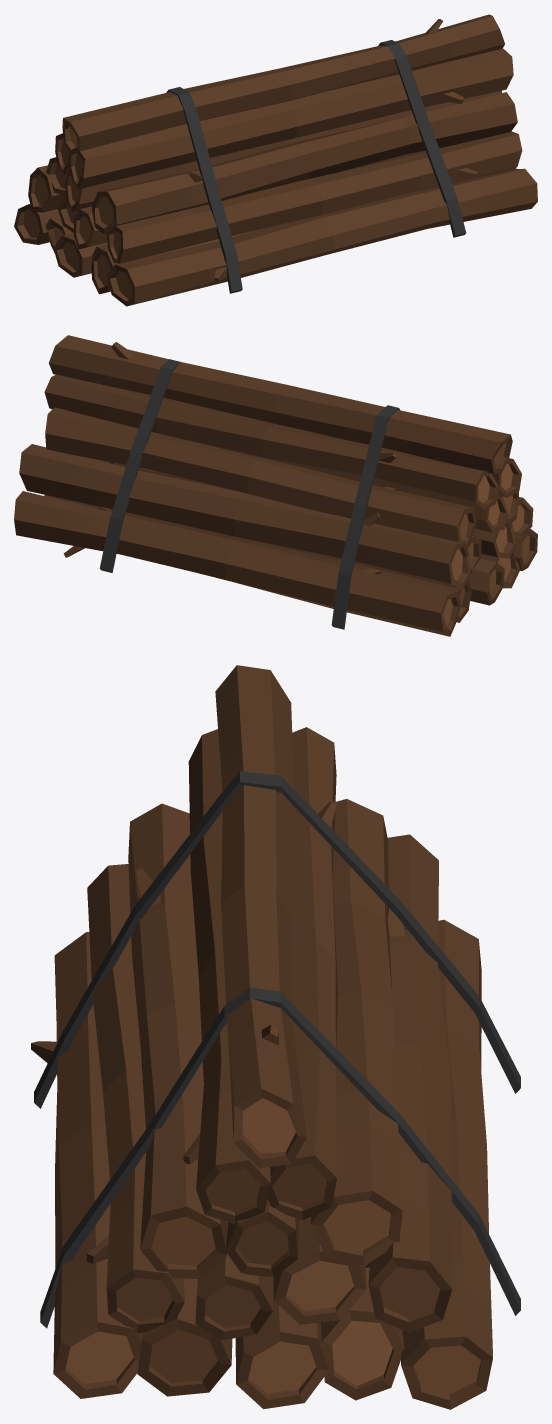
File: SM_Log_Pack_01.fbx
The picture shows the model from 3 angles, top to bottom: view 1: azimuth 30°, elevation 25°; view 2: azimuth 150°, elevation 25°; view 3: azimuth 270°, elevation 25°; orthographic projection. The views are drawn at different scales.
Visible parts, largest first — view 1: SM_Log_Pack_01; view 2: SM_Log_Pack_01; view 3: SM_Log_Pack_01.
Part boxes in pixels (<box>): SM_Log_Pack_01: <box>14,14,537,306</box>; SM_Log_Pack_01: <box>14,335,537,636</box>; SM_Log_Pack_01: <box>31,665,520,1409</box>.
Bounding box in the file's own units: 552 × 215 × 268.
